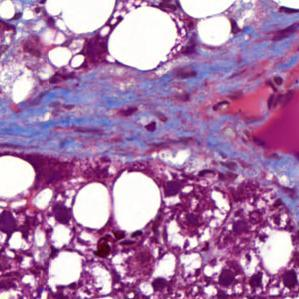steatosis: (178, 0, 236, 20)
